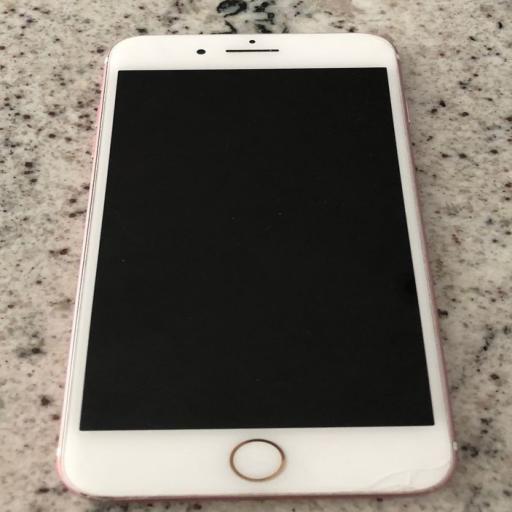curb: (53, 31, 464, 501)
